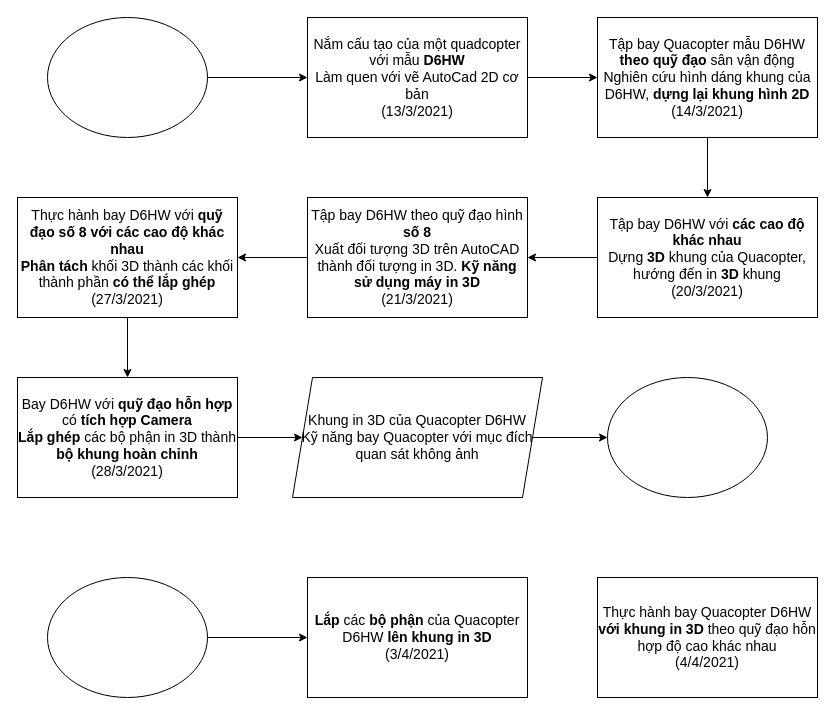
Some shapes in this 835 by 715 pixel diagram are drawn without their labels. Here are the shapes that lost their labels. From the top down, the box of each, then its label:
(46, 16, 208, 138): Begin (2/3/2021) Tìm hiểu thực hành bay Quacopter
(606, 376, 768, 498): End giai đoạn 1 (28/3/2021)
(46, 576, 208, 698): Begin (3/4/2021)
